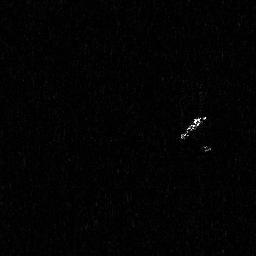ship: (177, 113, 208, 141)
